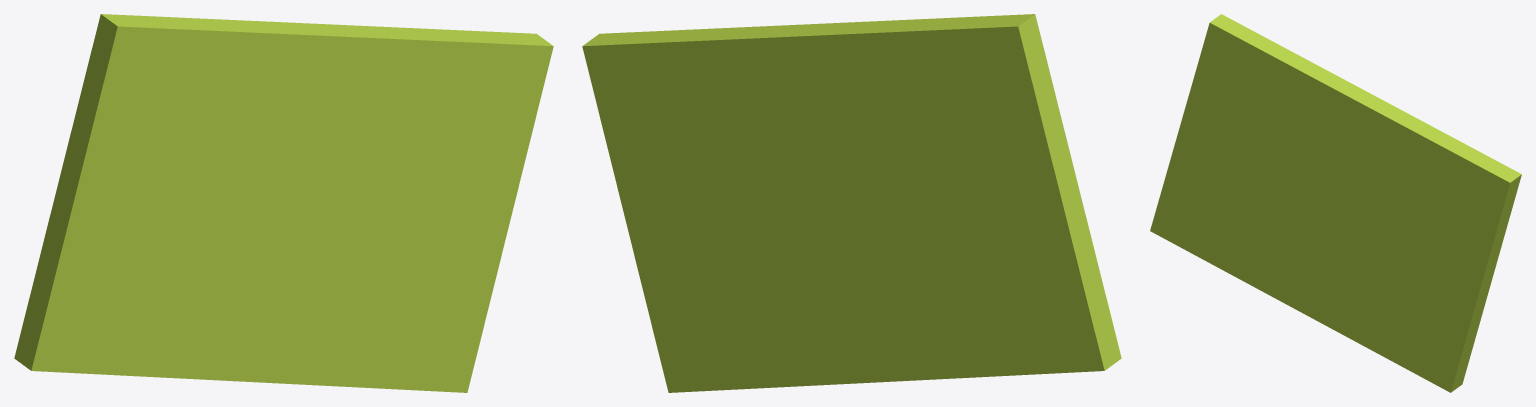
3 views of the same model, side by side, from view 1: azimuth 30°, elevation 25°; view 2: azimuth 150°, elevation 25°; view 3: azimuth 330°, elevation 25° (orthographic). The views are drawn at different scales.
Parts seen in each view (by area): view 1: osm-way27917482-F2; view 2: osm-way27917482-F2; view 3: osm-way27917482-F2.
Boxes of the visible parts, box(x1,y1,x2,y2) form: osm-way27917482-F2: box(14, 14, 553, 392); osm-way27917482-F2: box(582, 14, 1121, 392); osm-way27917482-F2: box(1150, 14, 1521, 392).
Size of the model in its own units: 2.65 by 2.19 by 0.15.
